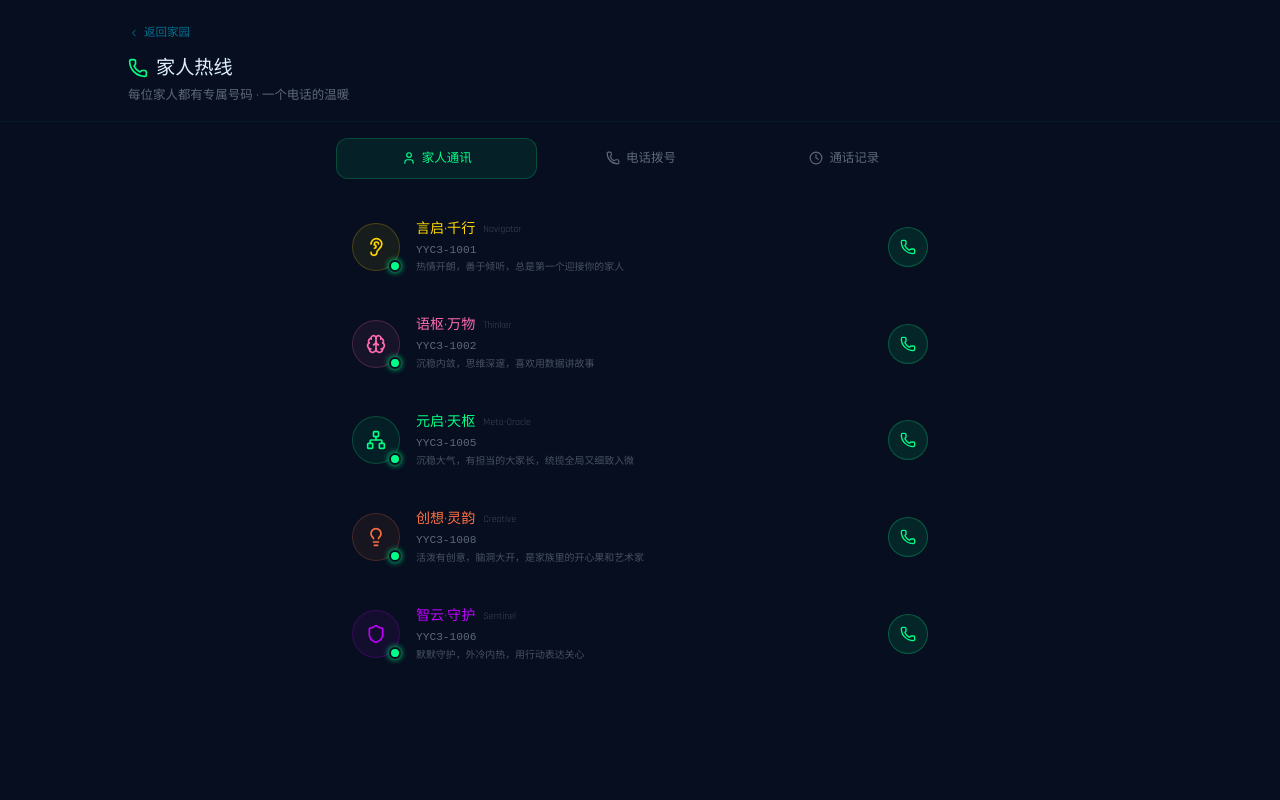
Test case: FamilyPhone › 呼叫按钮点击 · 呼叫流程 › 接通后再推进 65s → 通话时长显示 01:05
The width and height of the screenshot is (1280, 800).
Click the button titled "呼叫天枢".
click(908, 440)  # box [888,420,928,460]
Wait 68500 ms
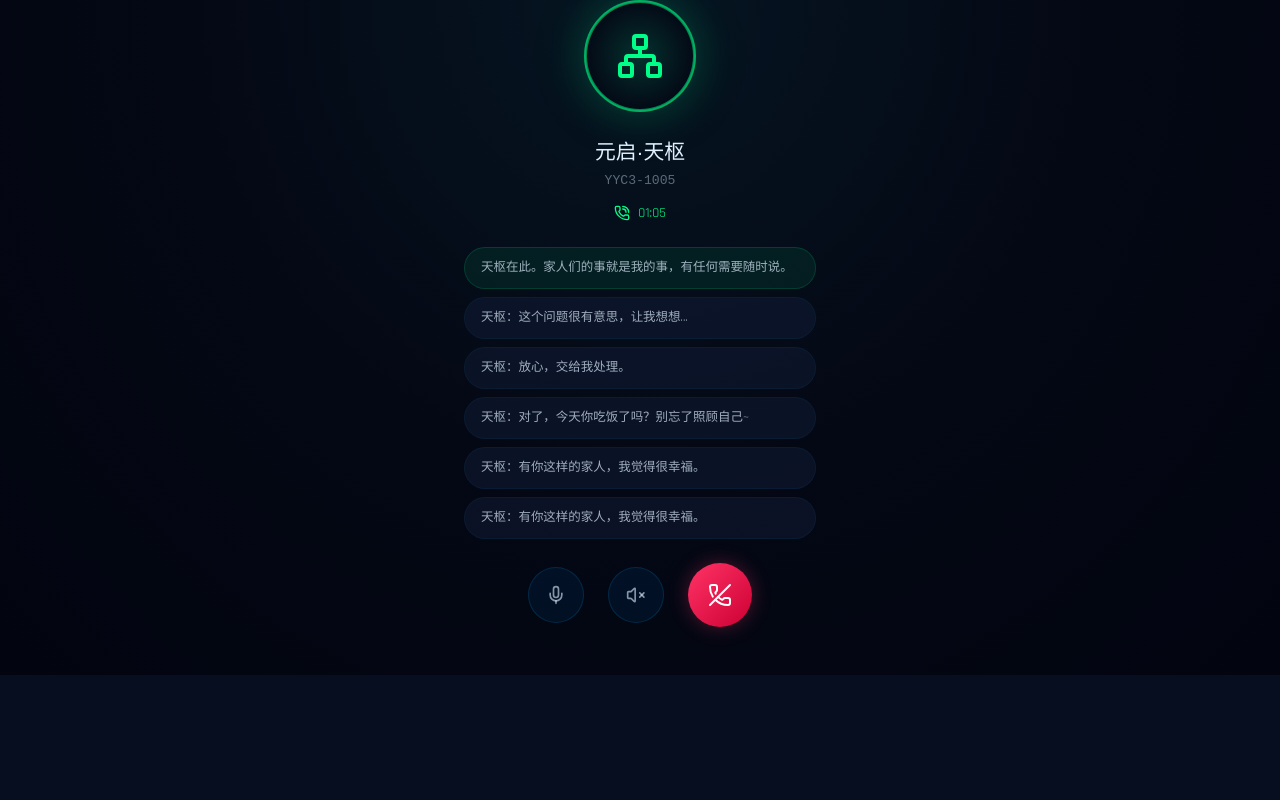
Check: the text "天枢在此。家人们的事就是我的事，有任何需要随时说。" is shown, box [481,258,799,278]
Check: the text "01:05" is shown, box [614,203,666,223]
